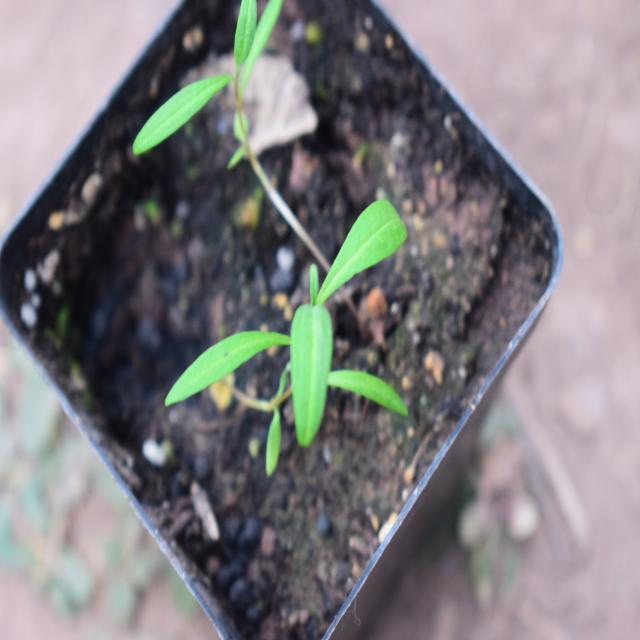white_smart_weed: (152, 201, 460, 468)
